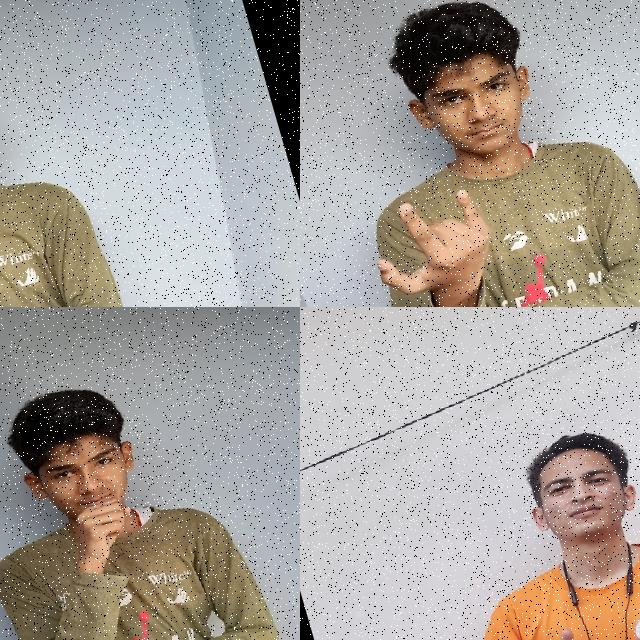Corna: (356, 168, 522, 307)
Fist Mouth: (0, 359, 182, 598)
Five Fathers: (513, 573, 640, 640)
